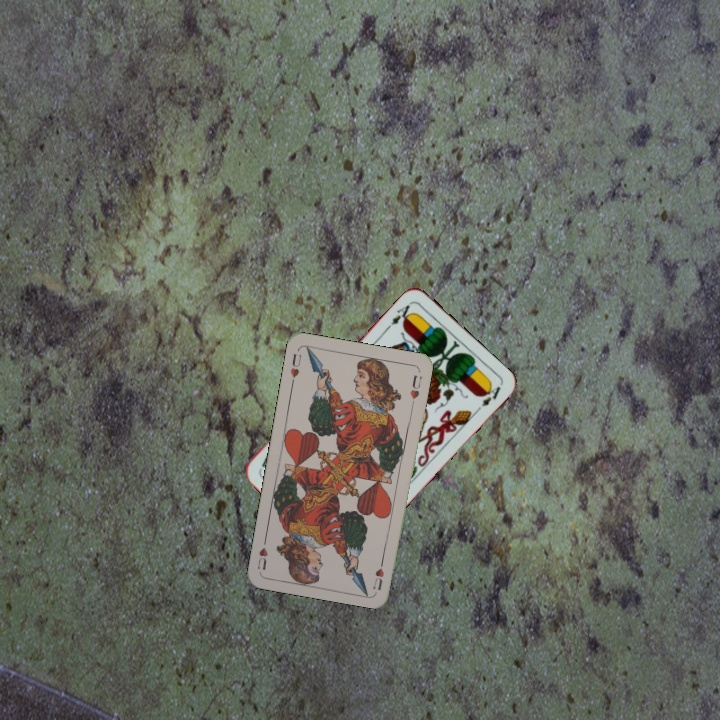EA: (383, 298, 416, 332)
HU: (370, 553, 387, 593), (286, 350, 304, 387)
